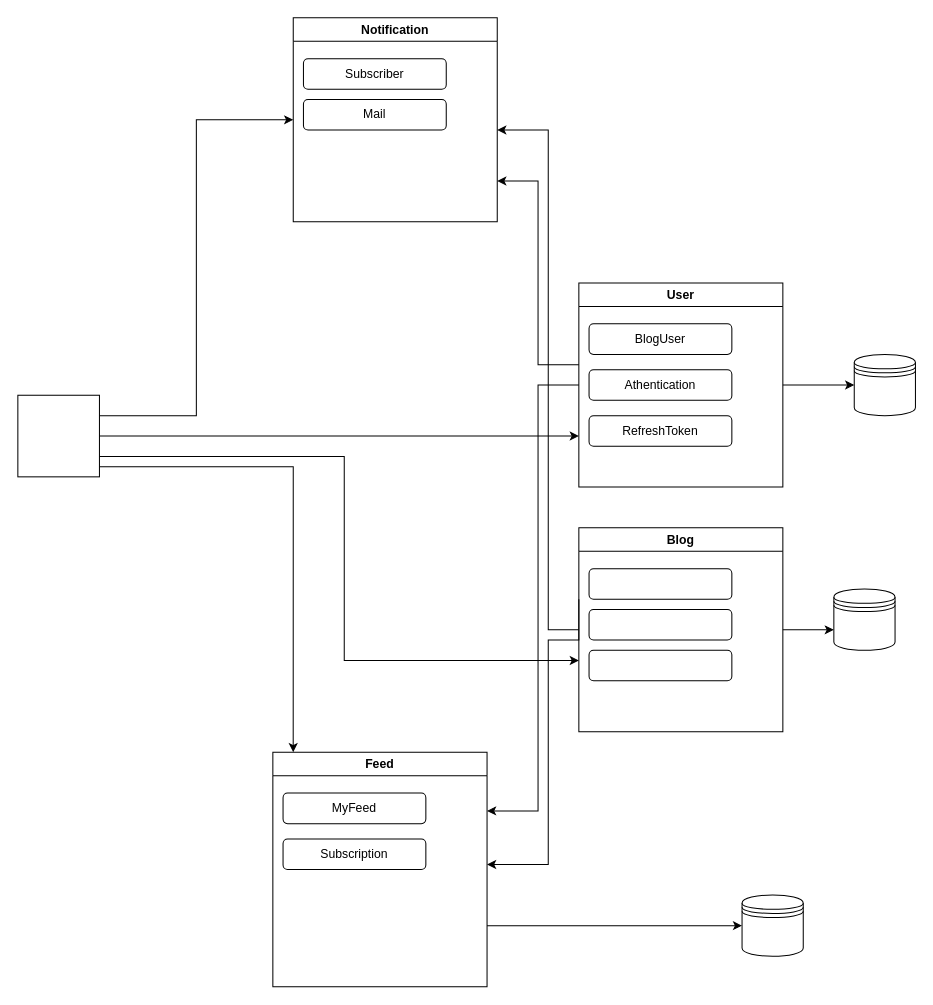
Image size: 933x1005. Some labels were removed from this diagram. The centre of each missing label's shape, as x and y in pixels:
"API Gateway" belongs at point 58,435.
"BlogPost" belongs at point 660,583.
"Comments" belongs at point 660,665.
"Tags" belongs at point 660,624.
